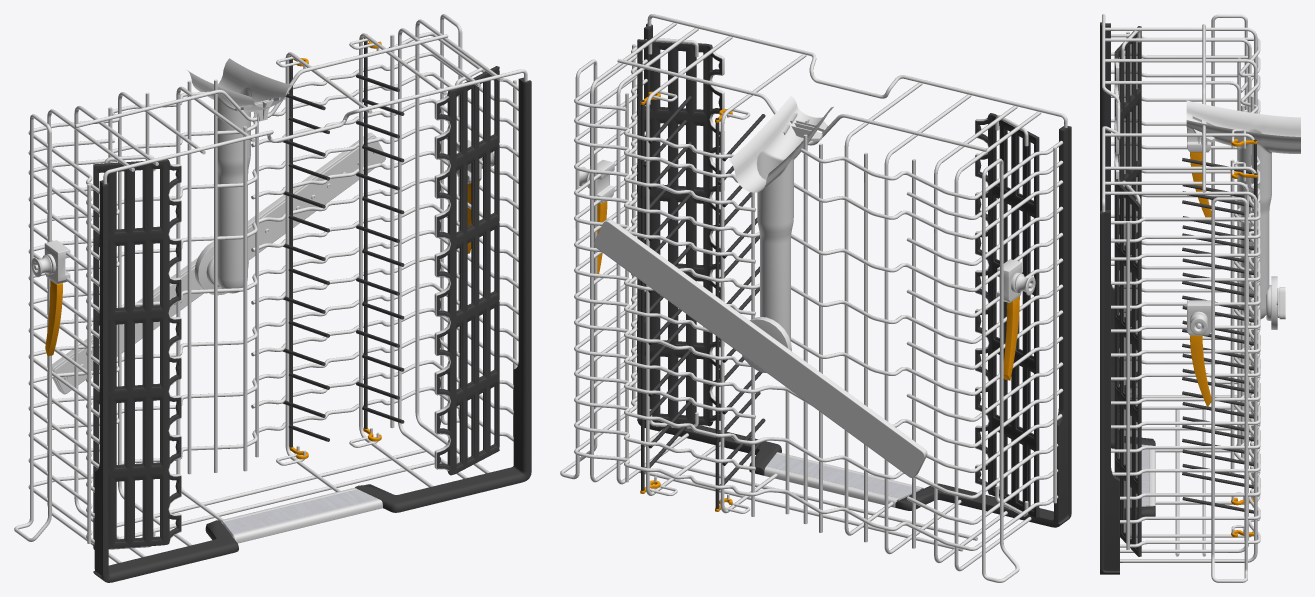
File: SM_Dishwasher_Tray_02.obj
The picture shows the model from 3 angles, left to right: view 1: azimuth 30°, elevation 25°; view 2: azimuth 150°, elevation 25°; view 3: azimuth 270°, elevation 25°; orthographic projection. The views are drawn at different scales.
Visible parts, largest first — view 1: SM_Dishwasher_Tray_02; view 2: SM_Dishwasher_Tray_02; view 3: SM_Dishwasher_Tray_02.
Boxes of the visible parts, <box> form: SM_Dishwasher_Tray_02: <box>14,14,531,582</box>; SM_Dishwasher_Tray_02: <box>560,14,1071,582</box>; SM_Dishwasher_Tray_02: <box>1100,14,1300,582</box>.
Bounding box in the file's own units: 0.5358 × 0.4638 × 0.2239.
